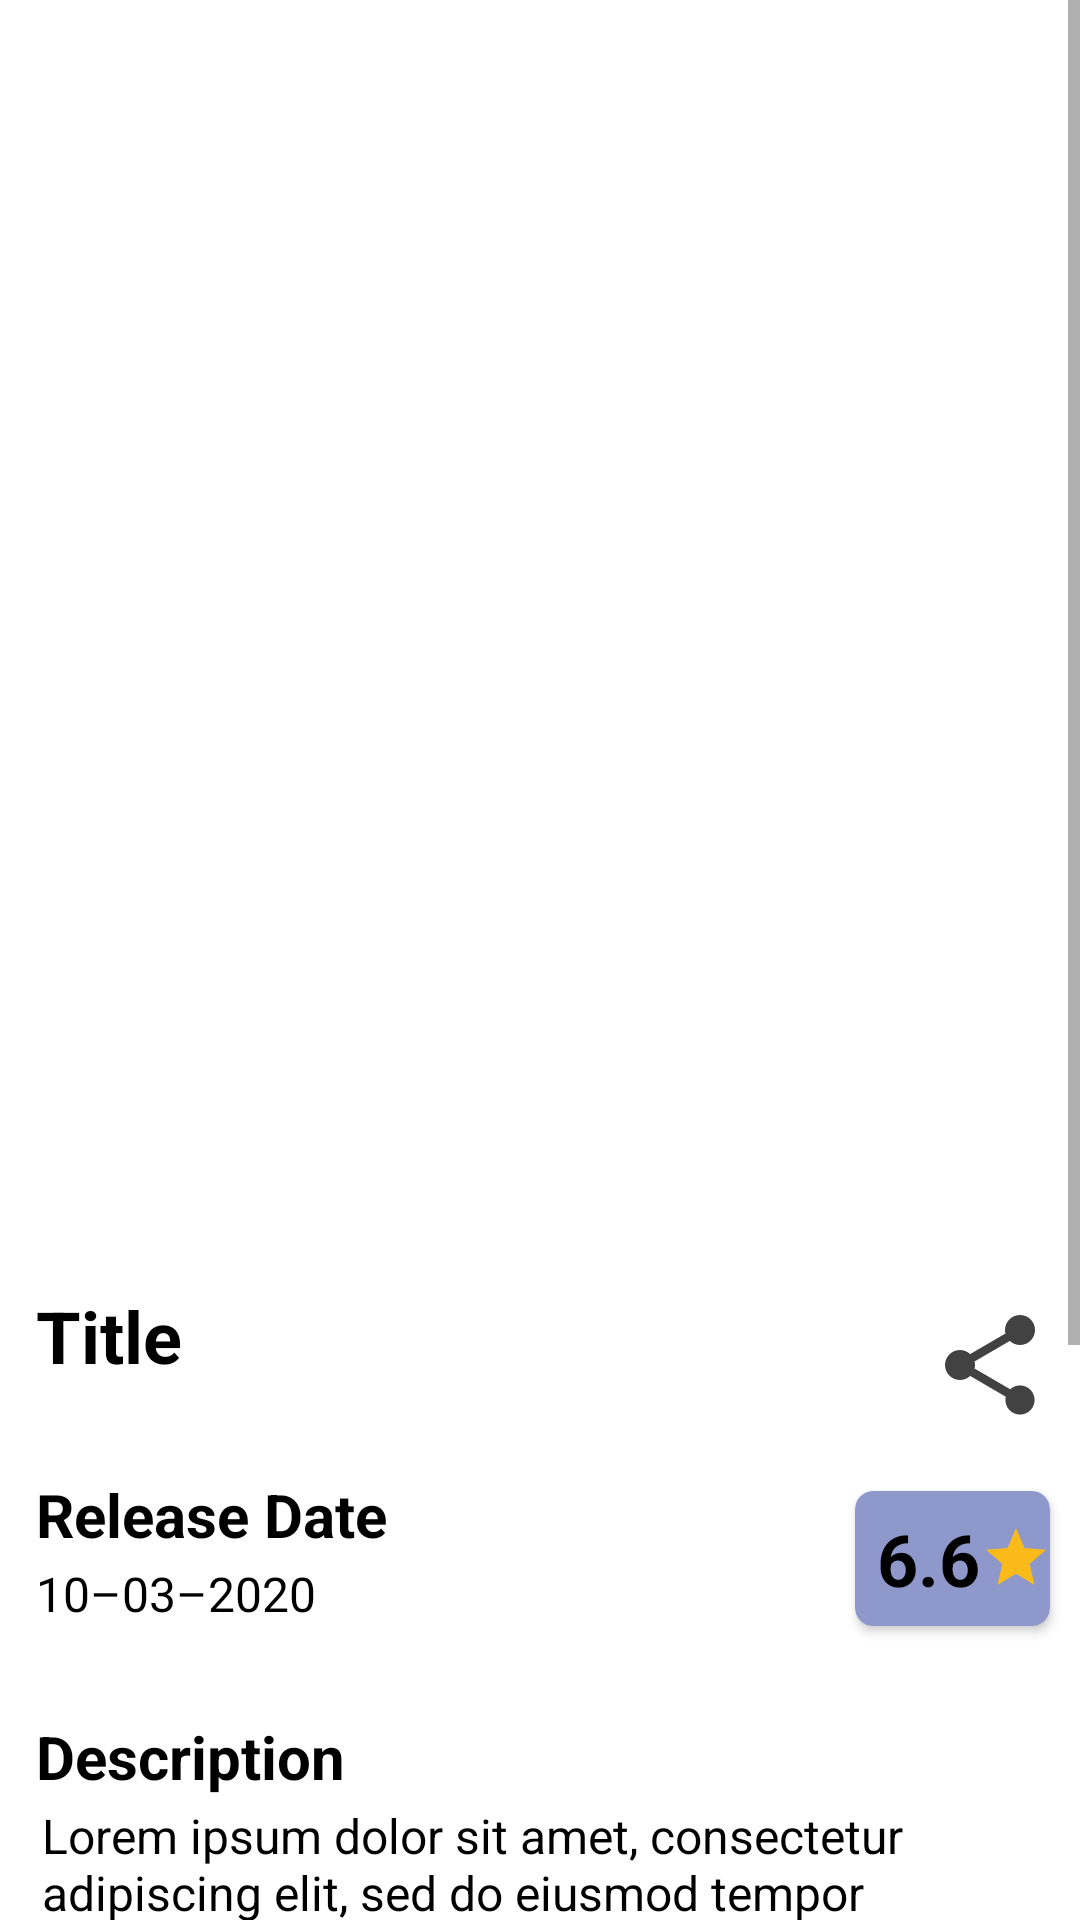

Locate icon controls on the screen. Image size 1080px×1920px, boxes as box(x1, y1, x2, y2).
share: box(945, 1315, 1035, 1415)
